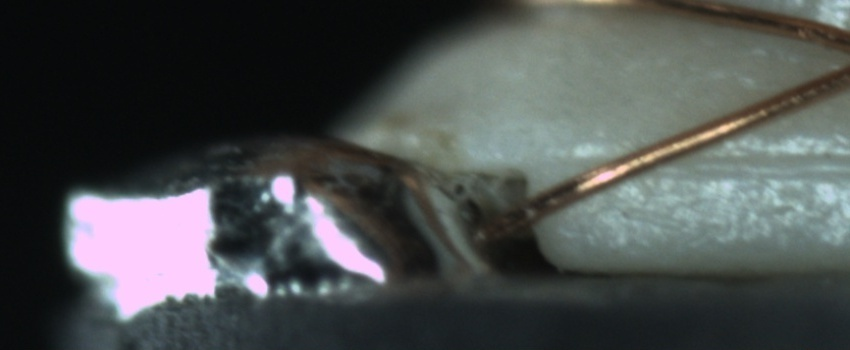DL: (610, 128, 844, 200)
